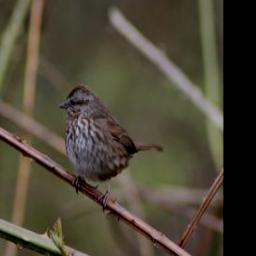Sparrow: (56, 81, 167, 213)
